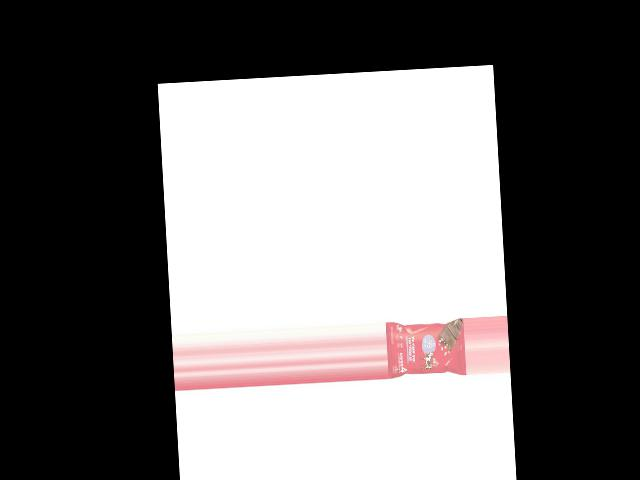chocolate: (384, 317, 466, 377)
